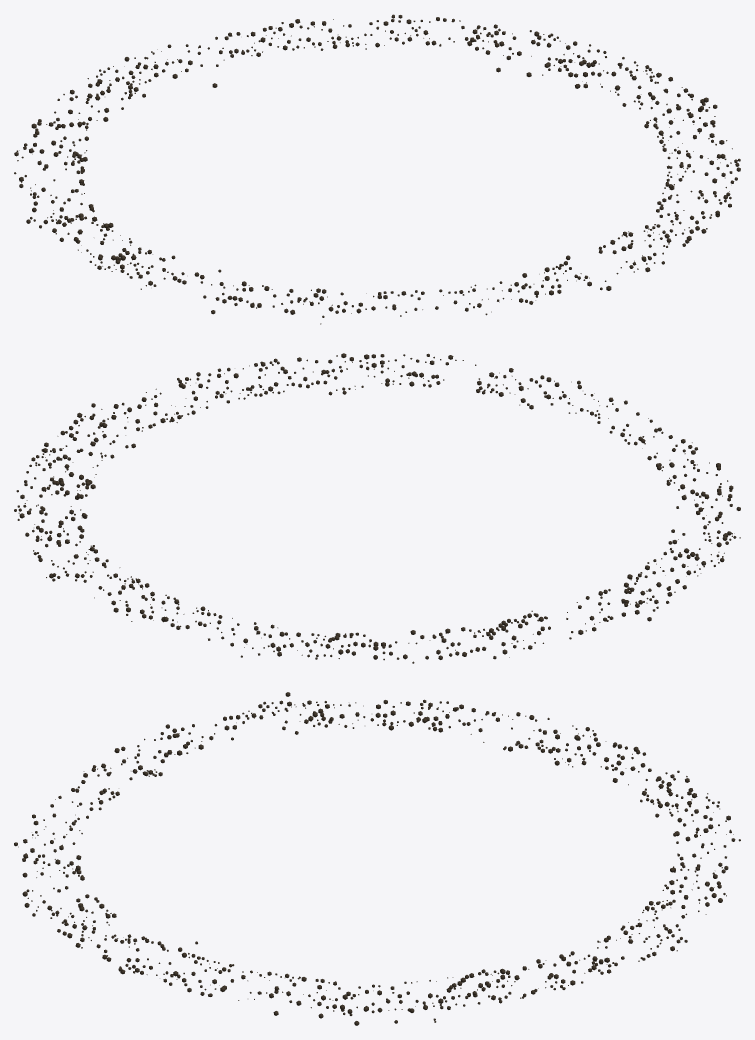
The model's file is mdl_duc_sci_asteroidfield.glb.
3 renders of one model, top to bottom at view 1: azimuth 30°, elevation 25°; view 2: azimuth 150°, elevation 25°; view 3: azimuth 270°, elevation 25°, orthographic.
Visible parts, largest first — view 1: Asteroid 1.352; view 2: Asteroid 1.352; view 3: Asteroid 1.352.
Part boxes in pixels (<box>): Asteroid 1.352: <box>14,14,740,324</box>; Asteroid 1.352: <box>14,353,740,663</box>; Asteroid 1.352: <box>14,692,740,1025</box>.
Bounding box in the file's own units: 31.45 × 1.92 × 30.95.
1 material, 1 textured.
